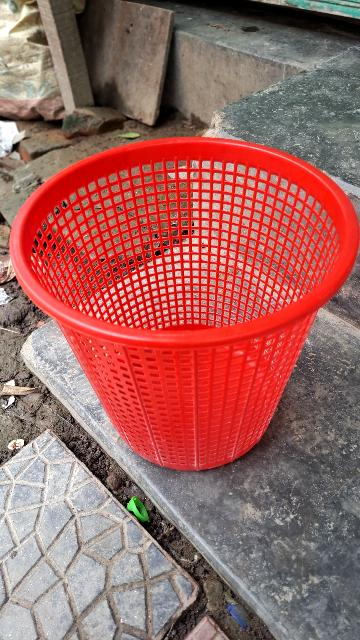hardplastic: (15, 135, 360, 468)
